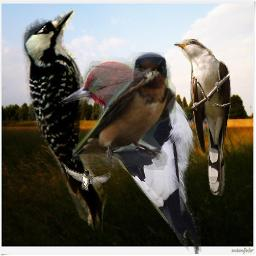Cuckoo: (173, 39, 232, 196)
Swallow: (72, 52, 176, 170), (61, 162, 111, 192)
Woodpecker: (55, 58, 211, 254), (13, 3, 123, 245)
